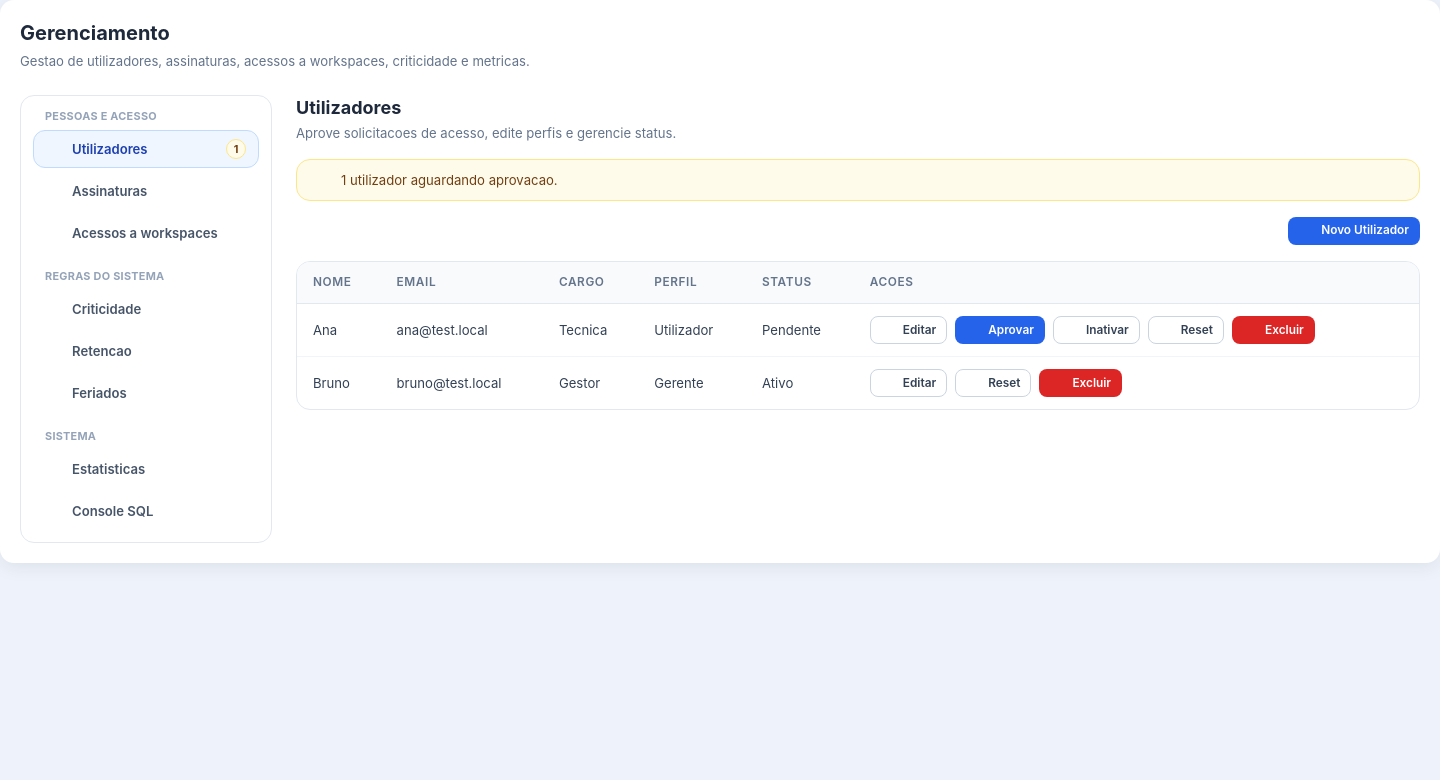
AdminView › troca para Criticidade e renderiza o editor estruturado
Click the button "Criticidade" at (146, 309), box [33,290,259,328]
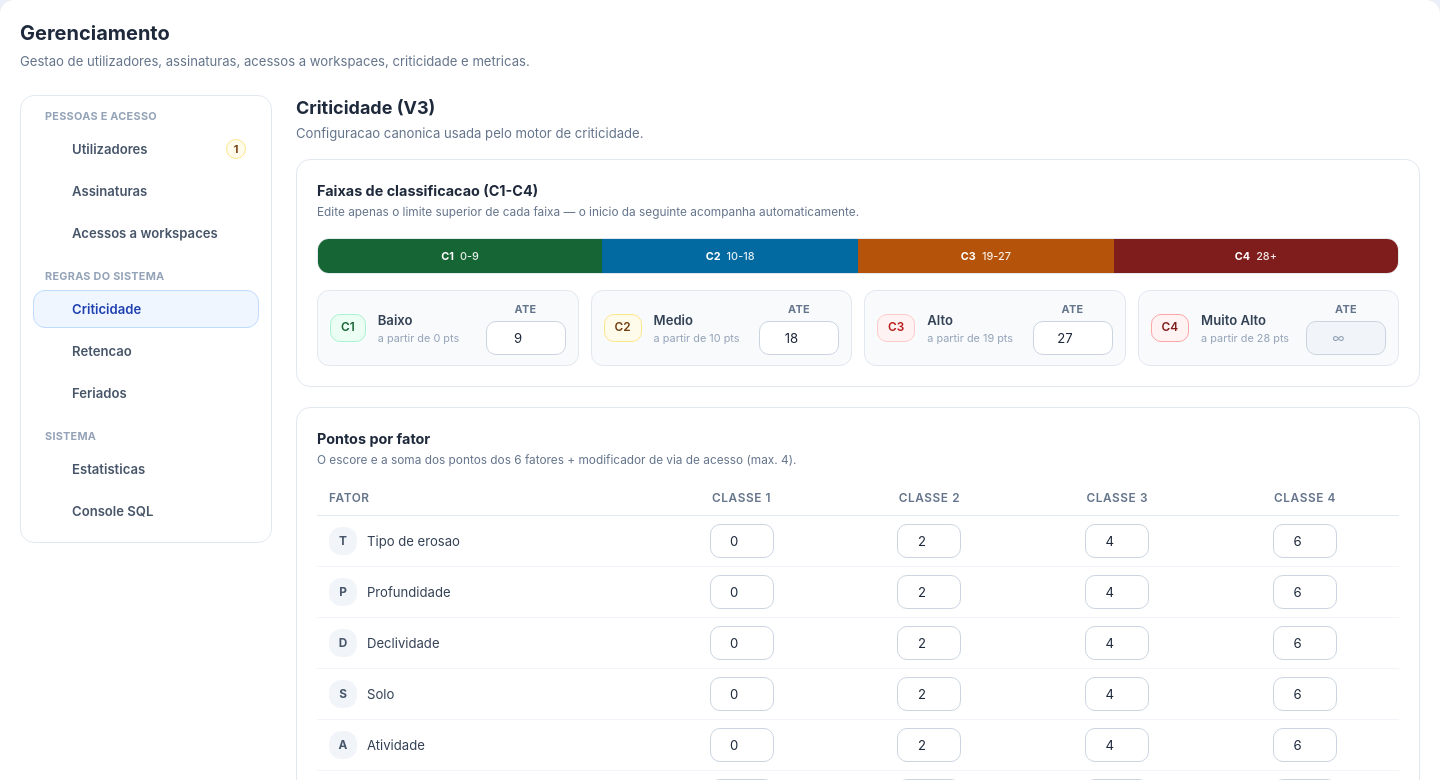
Check: the text "Faixas de classificacao (C1-C4)" is shown, box [317,182,538,199]
Check: the text "Pontos por fator" is shown, box [317,430,430,447]
